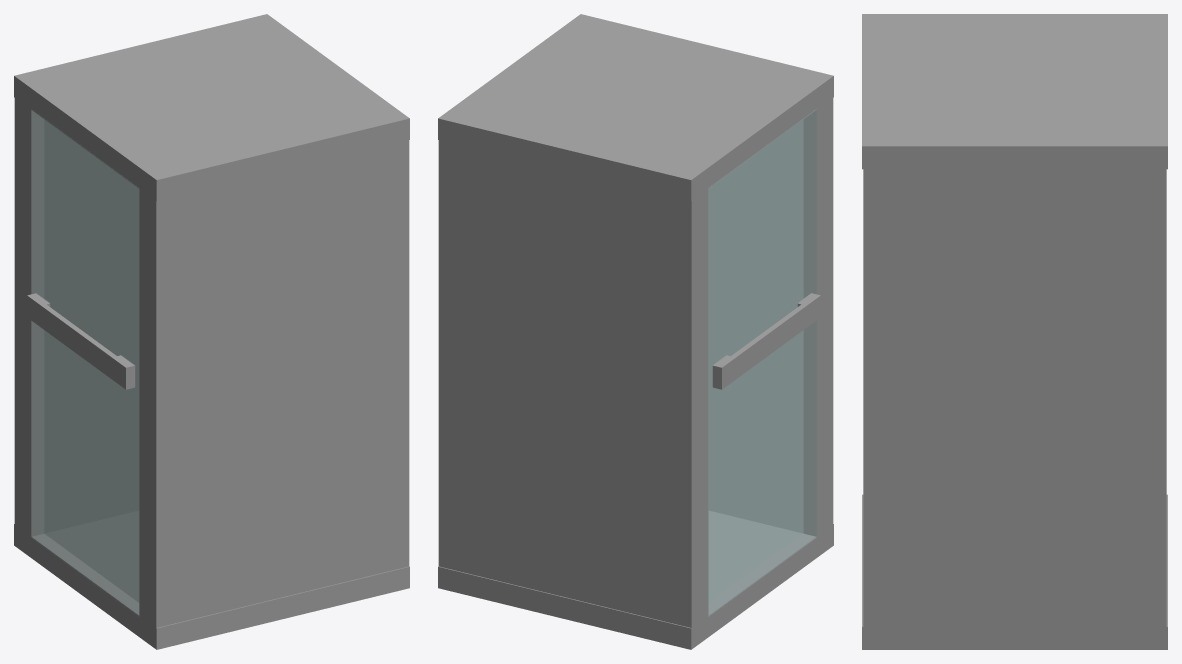
The model's file is Door.fbx.
3 views of the same model, side by side, from view 1: azimuth 30°, elevation 25°; view 2: azimuth 150°, elevation 25°; view 3: azimuth 270°, elevation 25° (orthographic). The views are drawn at different scales.
Visible parts, largest first — view 1: Side1, Side, Door, Top, Bottom, Handle; view 2: Side, Side1, Door, Top, Bottom, Handle; view 3: Back, Top, Side, Side1, Bottom.
Part boxes in pixels (<box>): Side1: <box>139,140,409,637</box>; Side: <box>14,87,138,546</box>; Door: <box>31,109,139,616</box>; Top: <box>14,14,409,201</box>; Bottom: <box>14,511,409,649</box>; Handle: <box>27,293,135,389</box>; Side: <box>438,140,708,638</box>; Side1: <box>709,92,833,546</box>; Door: <box>708,109,816,616</box>; Top: <box>438,14,833,201</box>; Bottom: <box>438,511,833,649</box>; Handle: <box>712,293,820,389</box>; Back: <box>898,158,1131,638</box>; Top: <box>862,14,1167,169</box>; Side: <box>1131,158,1166,638</box>; Side1: <box>863,158,898,637</box>; Bottom: <box>862,494,1167,649</box>.
Bounding box in the file's own units: 0.0612 × 0.1048 × 0.0577.
